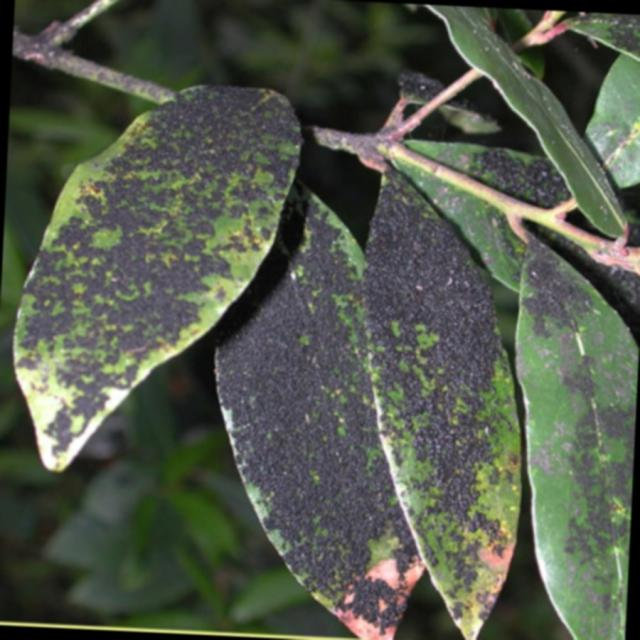Sooty Mold: (29, 60, 592, 561)
